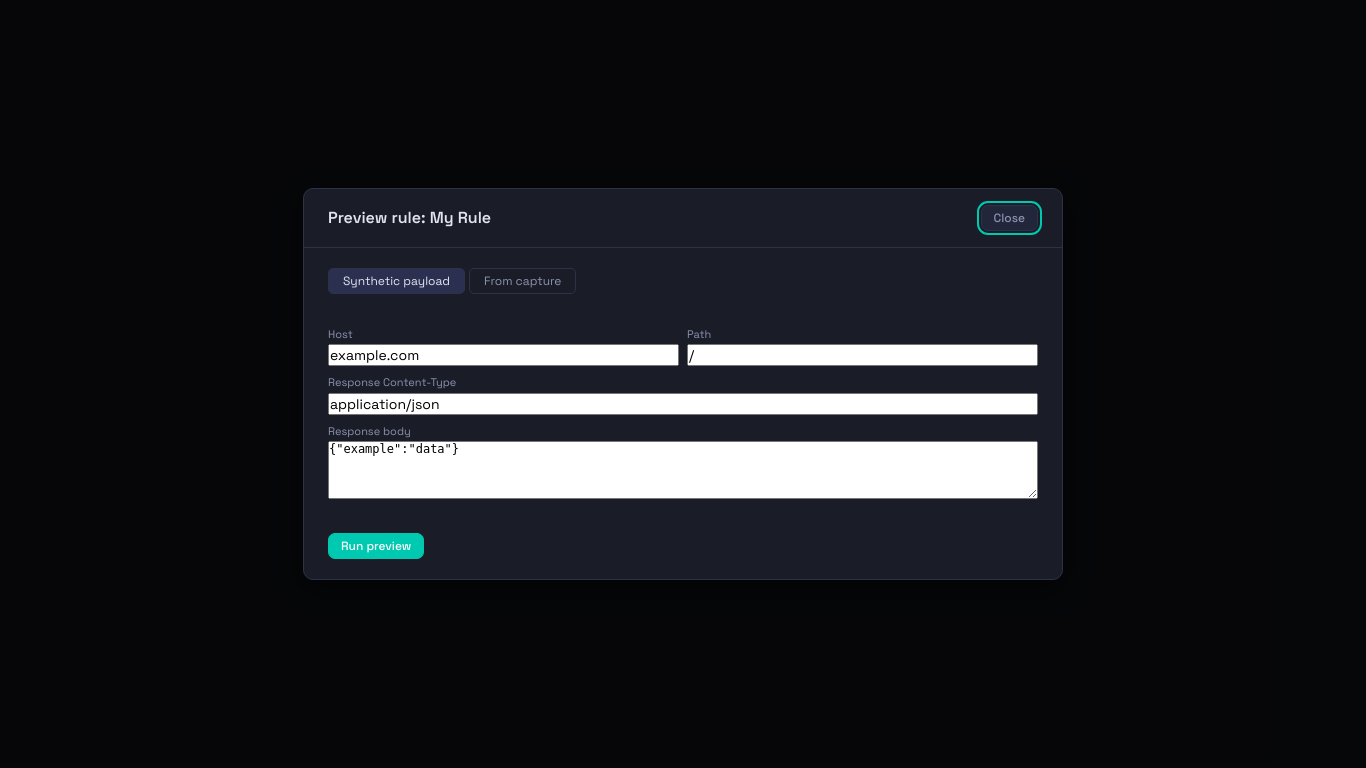
Test case: RulePreviewModal › shows capture list when From capture mode is selected
Click the button "From capture". click: (523, 281)
box: 469,268 -> 576,294
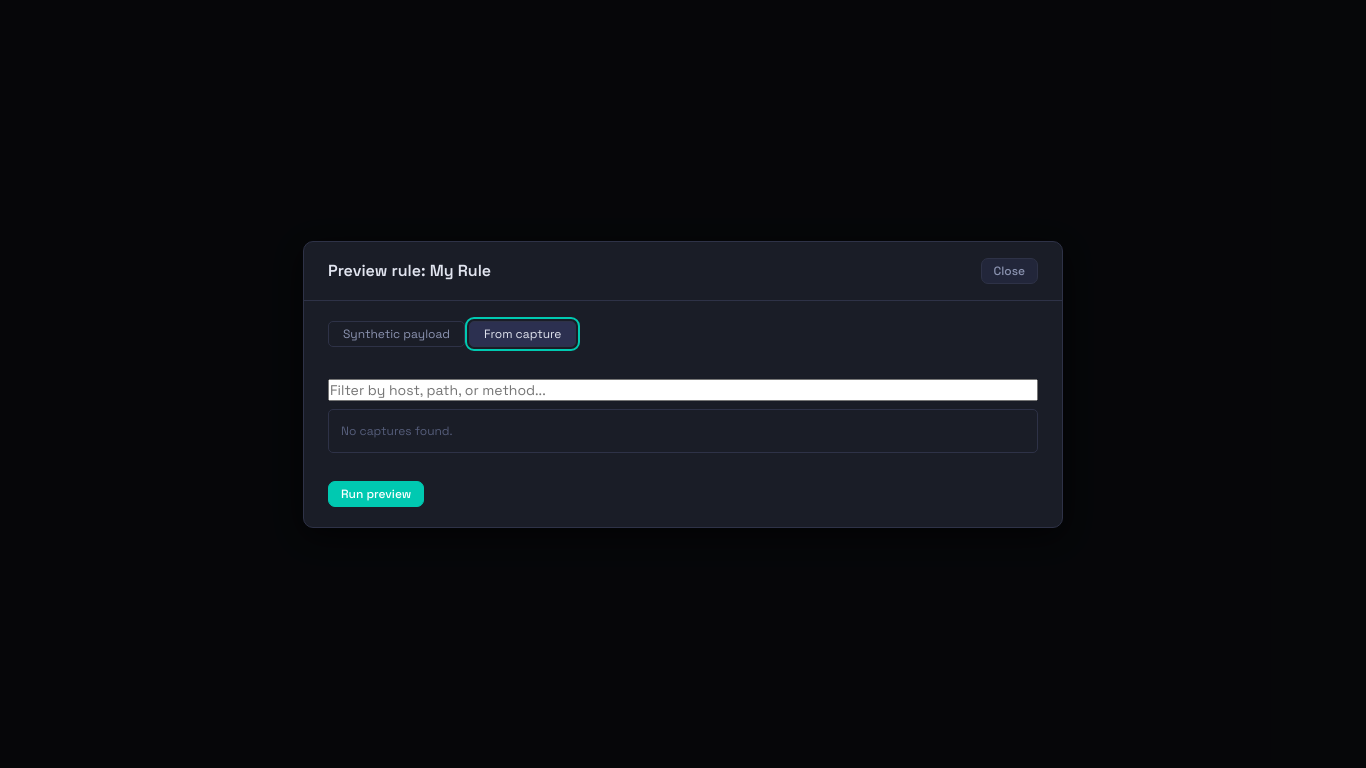
Expected: the list named "select a capture" is shown, 328,408 -> 1038,452
